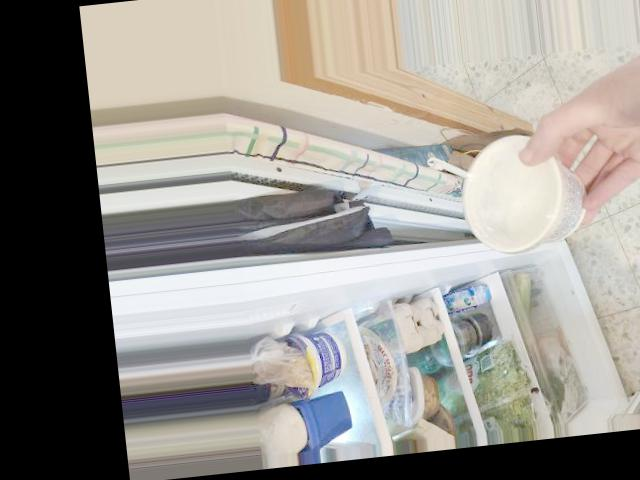cotage: (444, 145, 574, 257)
